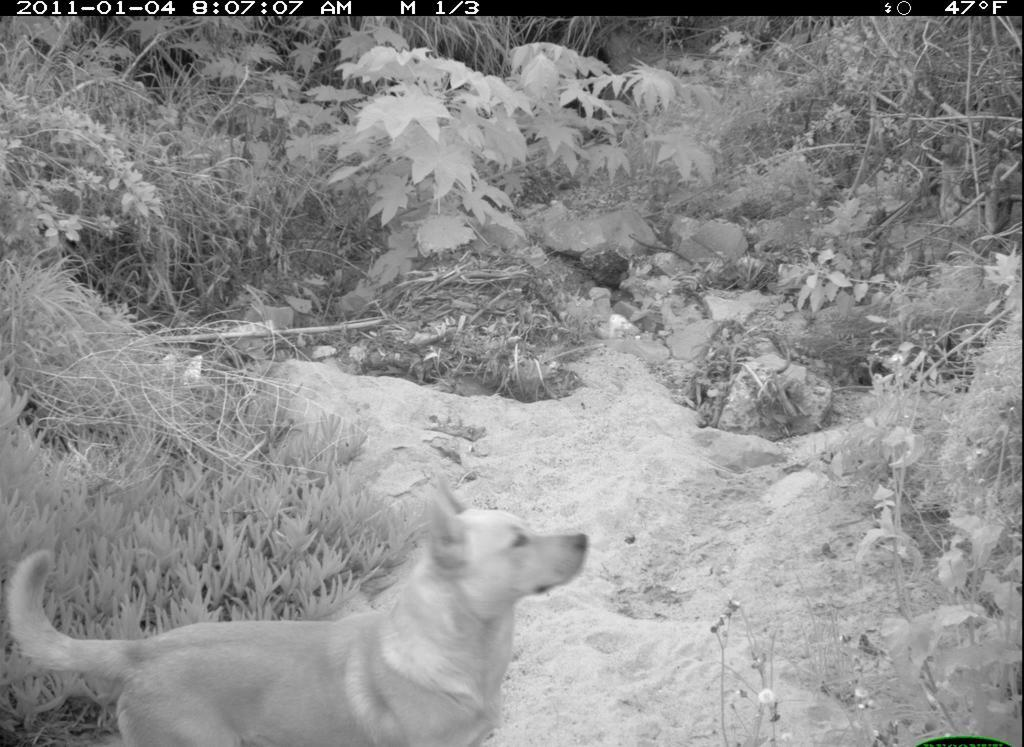dog: (6, 469, 589, 747)
